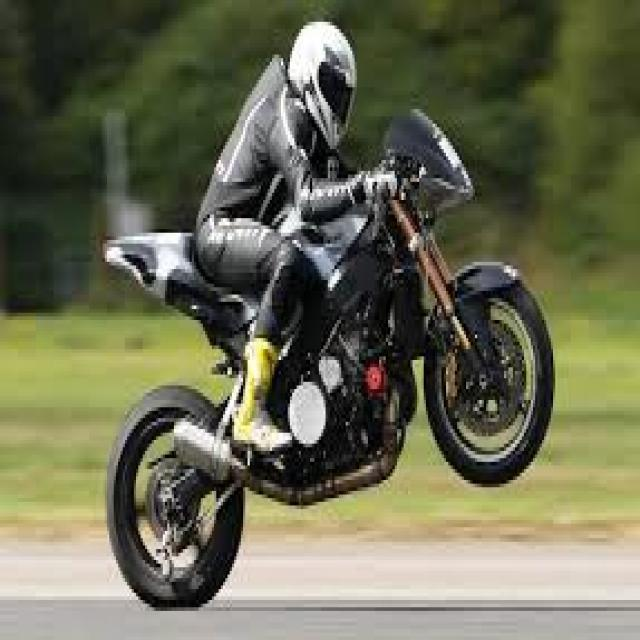Wheeling: (100, 7, 546, 622)
